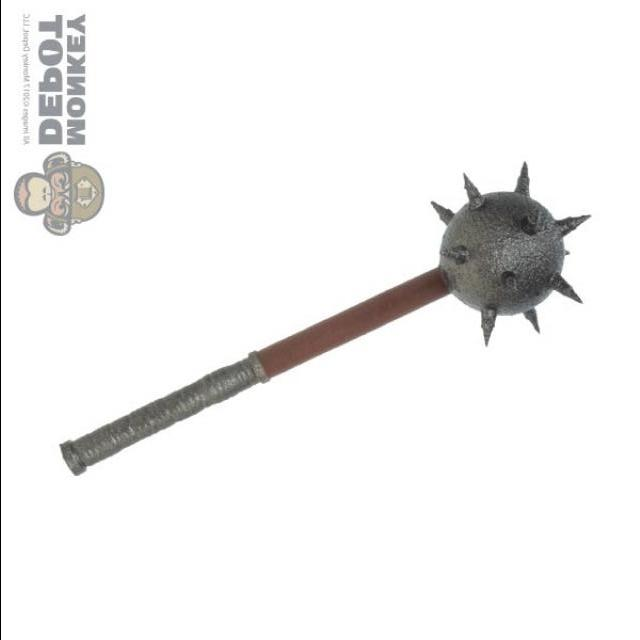mace: (59, 161, 591, 481)
